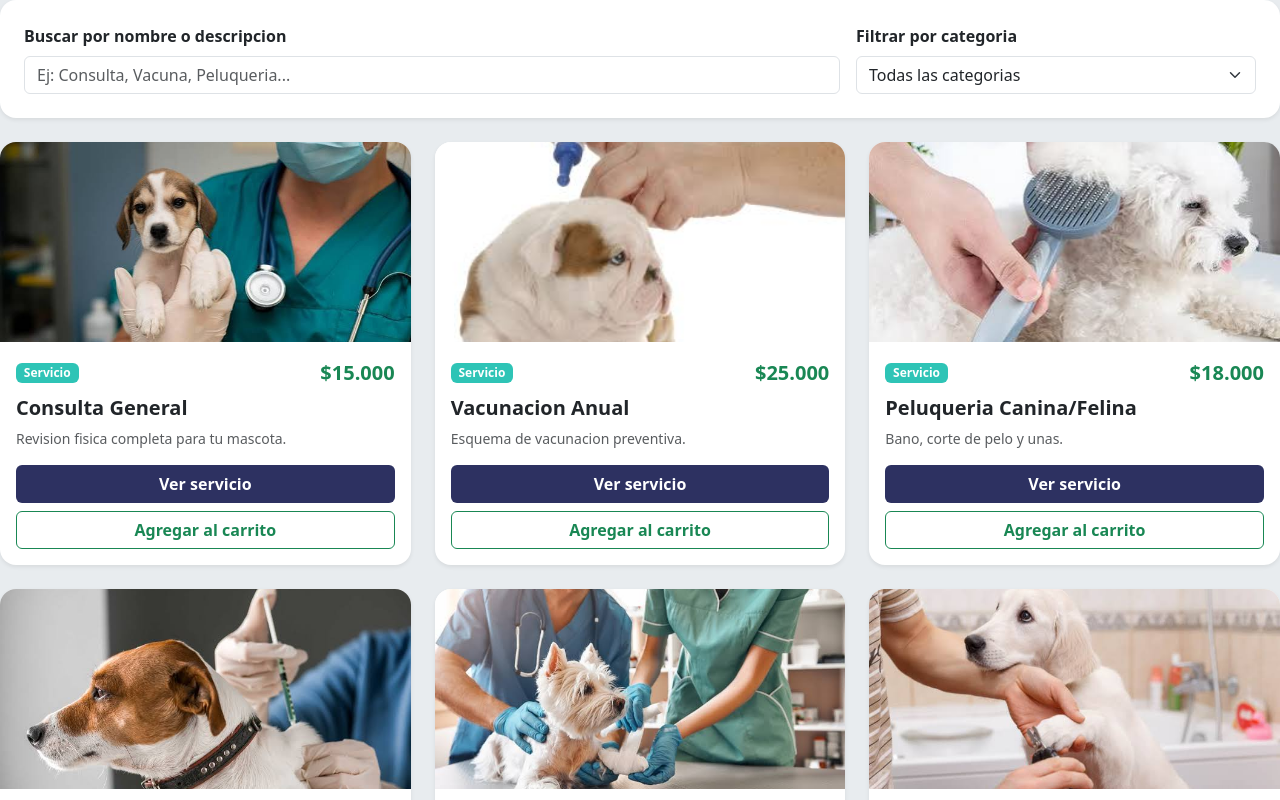
Scenario: Prueba 09: filtrar servicios por texto
Type "Consulta" into the field with placeholder "Ej: Consulta, Vacuna, Peluqueria..." at (432, 75), box [24,56,840,94]
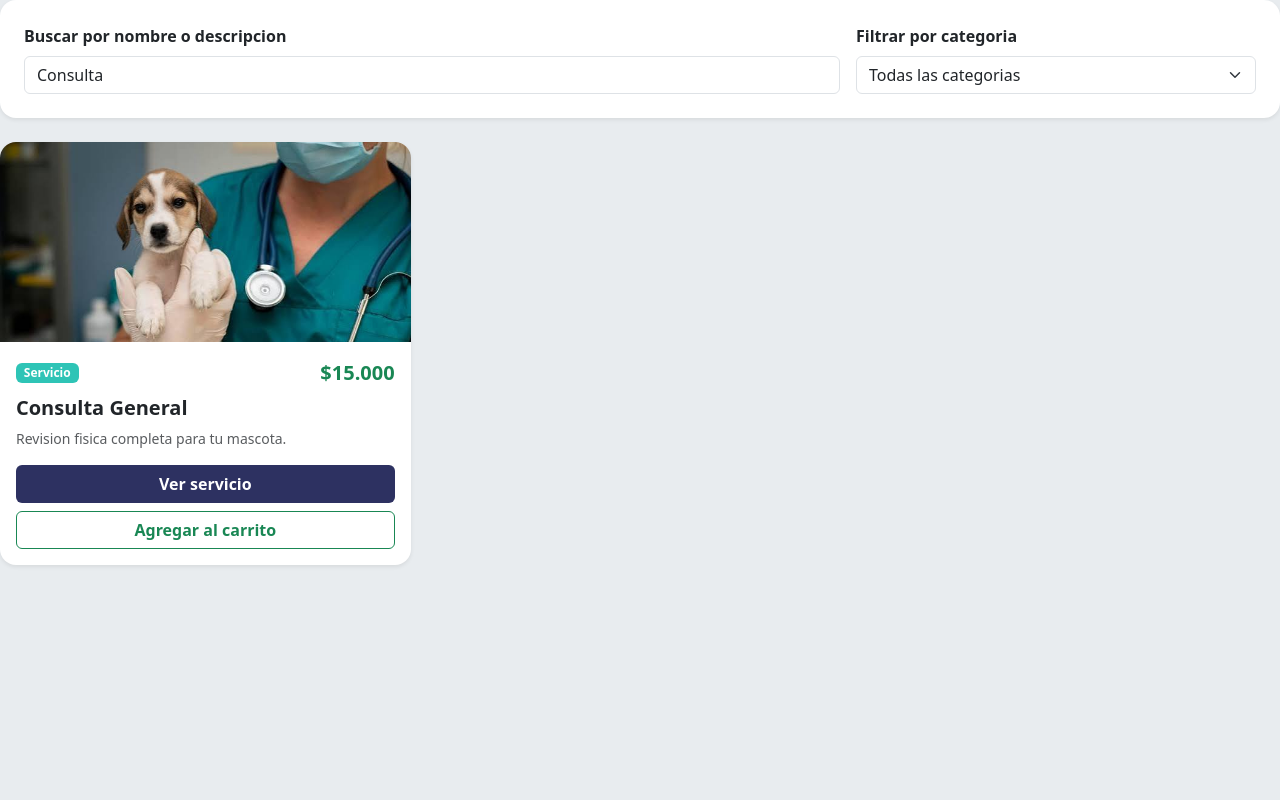
Expected: the heading "Consulta General" is shown, [16,394,188,421]
Result: the heading "Peluqueria Canina/Felina" is gone
